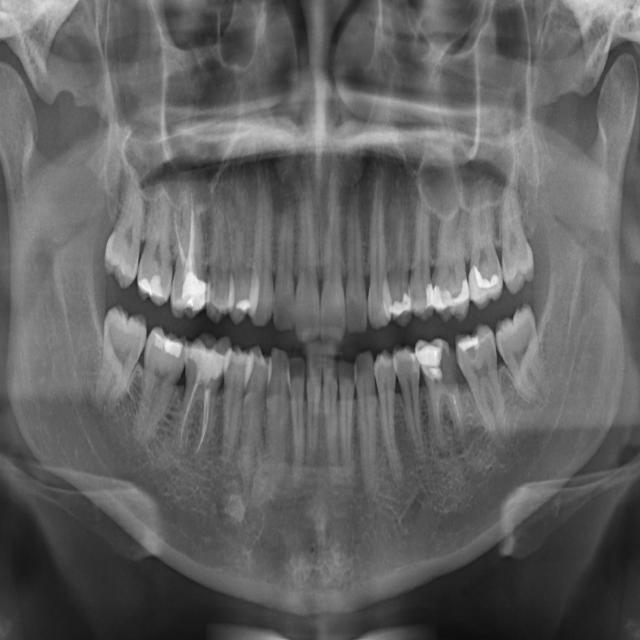CompositeResinRestoration: (468, 257, 502, 305), (188, 343, 224, 378), (432, 284, 470, 315), (182, 281, 209, 314), (390, 290, 414, 325), (156, 334, 184, 364), (417, 341, 440, 376), (459, 328, 481, 361), (136, 272, 160, 300), (418, 286, 435, 316), (236, 291, 249, 315)
DentalCaries: (440, 345, 456, 396)
RootCanalTreatment: (173, 389, 216, 466), (172, 190, 202, 274), (430, 382, 460, 433)
periapicalLesion: (430, 440, 452, 474), (456, 428, 468, 468)
